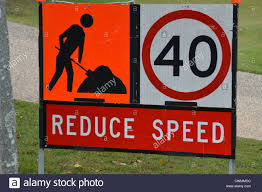Speed_limit_40km: (141, 10, 230, 98)
